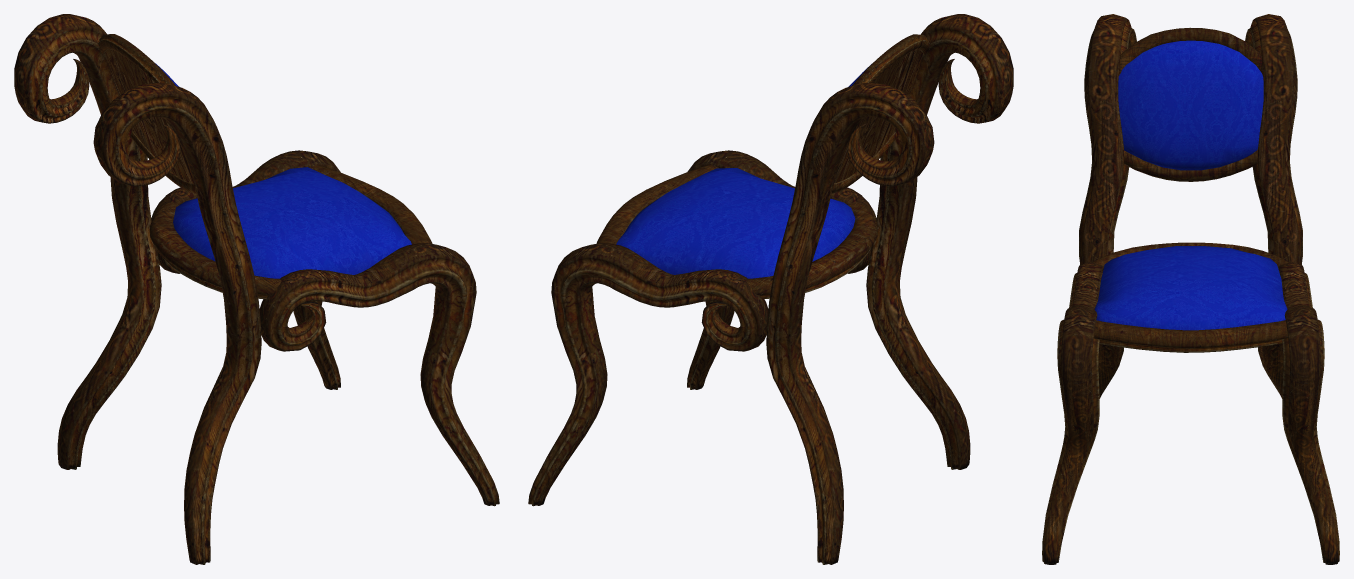
The model's file is obj_wooden_chair_65e5c1.glb.
3 views of the same model, side by side, from view 1: azimuth 30°, elevation 25°; view 2: azimuth 150°, elevation 25°; view 3: azimuth 270°, elevation 25° (orthographic). The views are drawn at different scales.
Parts seen in each view (by area): view 1: obj_wooden_chair_65e5c1; view 2: obj_wooden_chair_65e5c1; view 3: obj_wooden_chair_65e5c1.
Boxes of the visible parts, x1,y1,x2,y2 form: obj_wooden_chair_65e5c1: (14,14,499,564); obj_wooden_chair_65e5c1: (528,14,1013,564); obj_wooden_chair_65e5c1: (1042,14,1339,564).
Bounding box in the file's own units: 0.6853 × 0.85 × 0.5546.
Materials: 1 (1 with a texture image).
